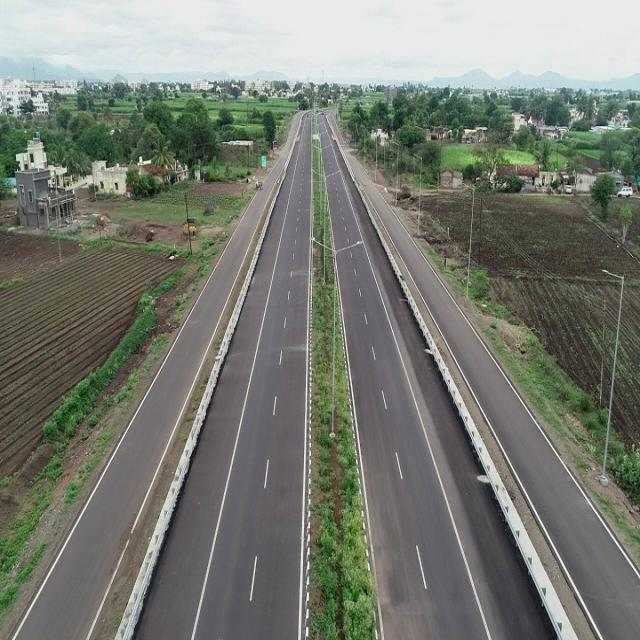Clean road: (0, 218, 640, 640)
